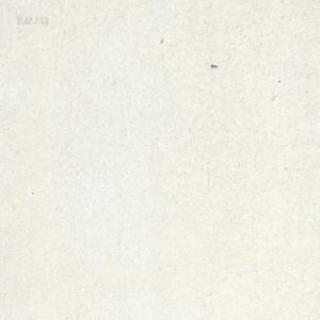Nailtrack_idkeyframe: (210, 62, 217, 67)
